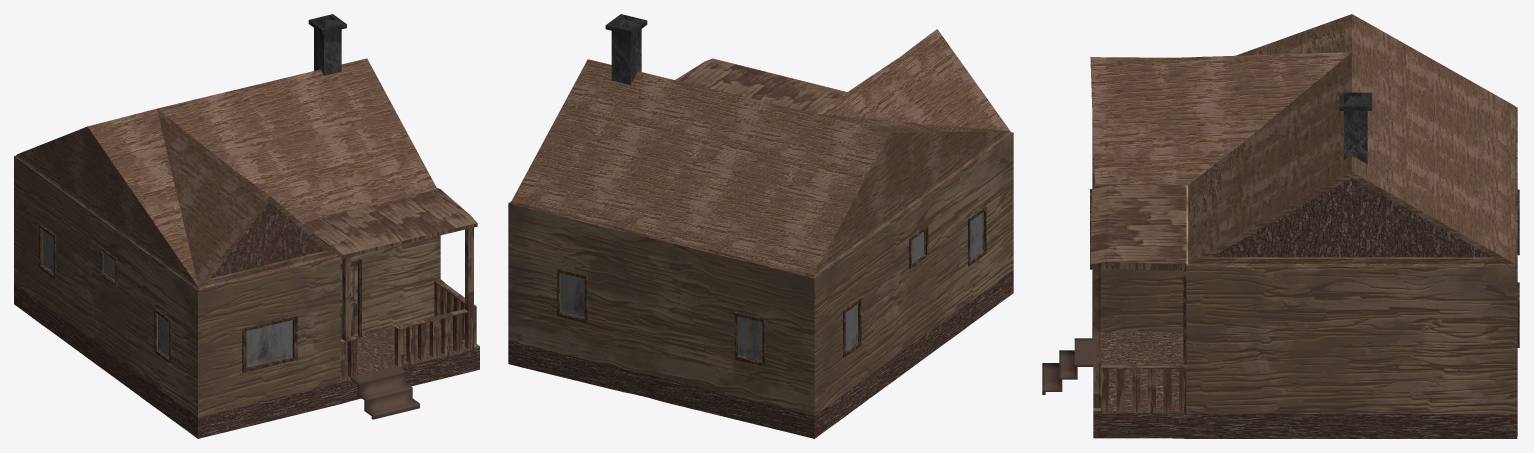
File: alexinevi.fbx
3 views of the same model, side by side, from view 1: azimuth 30°, elevation 25°; view 2: azimuth 150°, elevation 25°; view 3: azimuth 270°, elevation 25° (orthographic). The views are drawn at different scales.
Visible parts, largest first — view 1: çatı, Plane.006, Plane, Plane.002, camlar, Plane.008, Cube.005, Plane.005, Cube, Plane.003; view 2: çatı, Plane.006, Plane.002, Plane, camlar, Cube.005, Cube; view 3: çatı, Plane.006, Plane, Plane.002, Plane.005, Cube, Plane.008, Cube.005.
Boxes of the visible parts, x1,y1,x2,y2 form: çatı: (16,58,437,289); Plane.006: (14,156,440,417); Plane: (14,155,479,382); Plane.002: (14,283,479,438); camlar: (42,230,292,366); Plane.008: (351,366,419,419); Cube.005: (39,224,361,372); Plane.005: (345,320,467,378); Cube: (308,14,346,75); Plane.003: (340,265,357,339); çatı: (510,29,1011,277); Plane.006: (508,133,1013,415); Plane.002: (508,270,1013,438); Plane: (508,58,1013,361); camlar: (560,213,982,360); Cube.005: (557,206,986,366); Cube: (605,14,647,84); çatı: (1090,14,1516,266); Plane.006: (1092,185,1517,413); Plane: (1090,107,1517,413); Plane.002: (1092,336,1517,438); Plane.005: (1093,332,1183,411); Cube: (1339,92,1372,164); Plane.008: (1042,338,1093,394); Cube.005: (1090,189,1519,364).
Size of the model in its own units: 2260 by 2123 by 2837.
31 materials, 30 textured.
